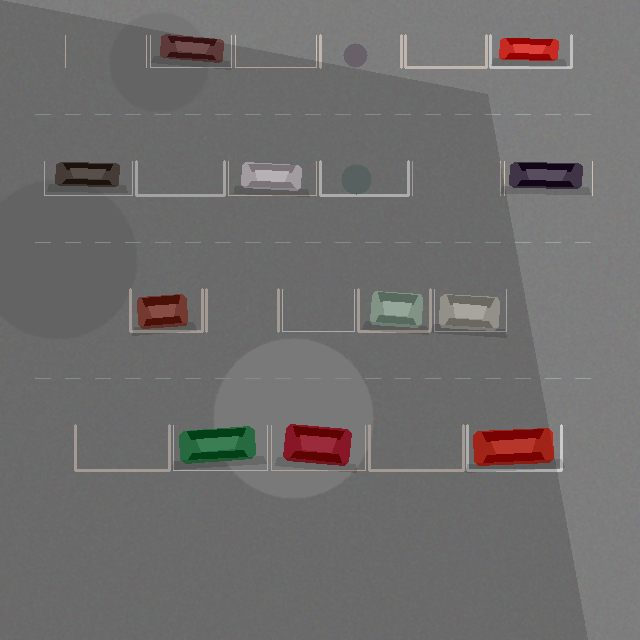space-empty: (75, 425, 169, 470), (369, 425, 463, 470), (206, 289, 278, 331), (282, 289, 354, 331), (136, 161, 224, 195), (320, 161, 408, 195), (412, 161, 500, 195), (65, 35, 146, 67), (235, 35, 316, 67), (320, 35, 401, 67), (405, 35, 486, 67)
space-occupied: (173, 425, 267, 470), (271, 425, 365, 470), (467, 425, 561, 470), (130, 289, 202, 331), (358, 289, 430, 331), (434, 289, 506, 331), (44, 161, 132, 195), (228, 161, 316, 195), (504, 161, 592, 195), (150, 35, 231, 67), (490, 35, 571, 67)
